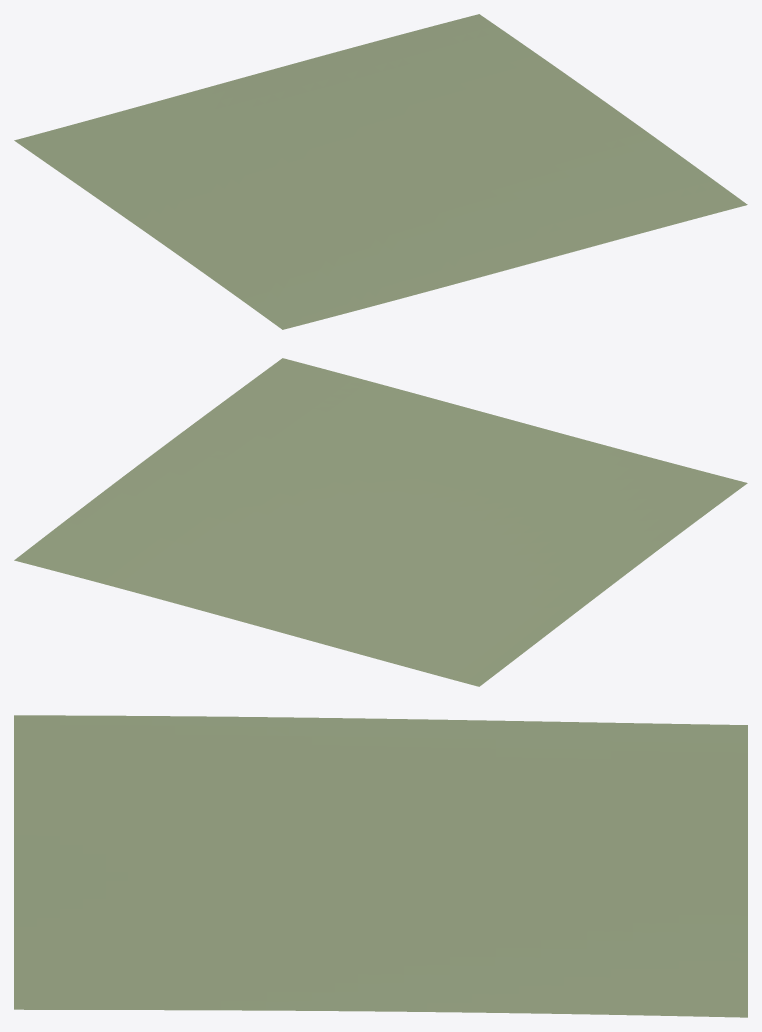
Rendered from expanse-11-1.glb.
3 renders of one model, top to bottom at view 1: azimuth 30°, elevation 25°; view 2: azimuth 150°, elevation 25°; view 3: azimuth 270°, elevation 25°, orthographic. The views are drawn at different scales.
Visible parts, largest first — view 1: expanse-11-1; view 2: expanse-11-1; view 3: expanse-11-1.
Boxes of the visible parts, bbox=[...] form: expanse-11-1: bbox=[14, 14, 747, 329]; expanse-11-1: bbox=[14, 358, 747, 686]; expanse-11-1: bbox=[14, 715, 747, 1017].
Size of the model in its own units: 256 by 9.82 by 256.
